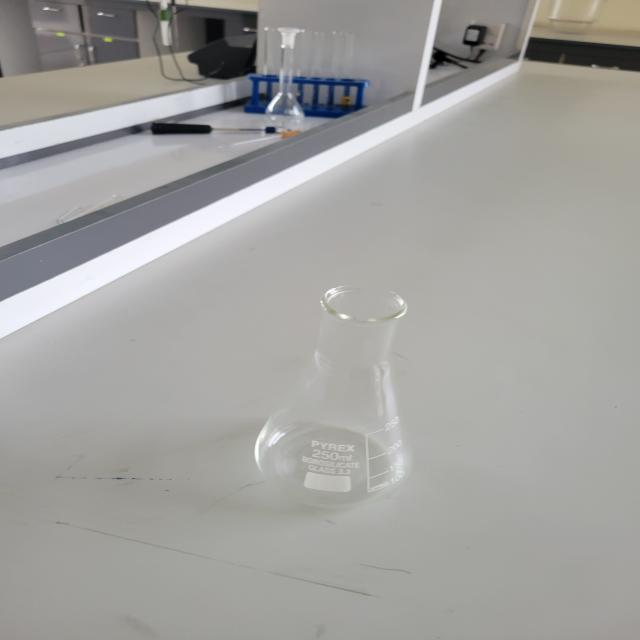Conical_Flask: (220, 243, 447, 521)
